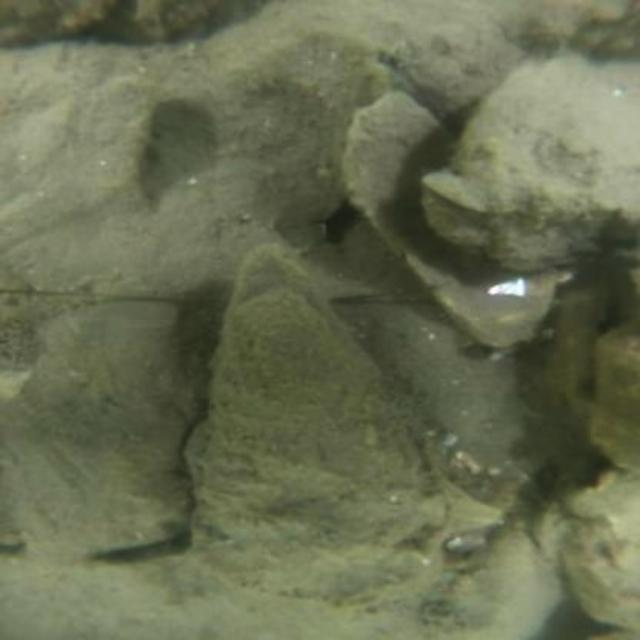Oyster-Closed: (193, 243, 438, 595), (338, 89, 559, 351), (0, 300, 197, 552), (427, 57, 632, 272), (232, 0, 508, 100), (420, 527, 552, 628), (546, 479, 637, 624), (583, 320, 638, 472), (123, 0, 237, 42), (13, 1, 107, 45)
